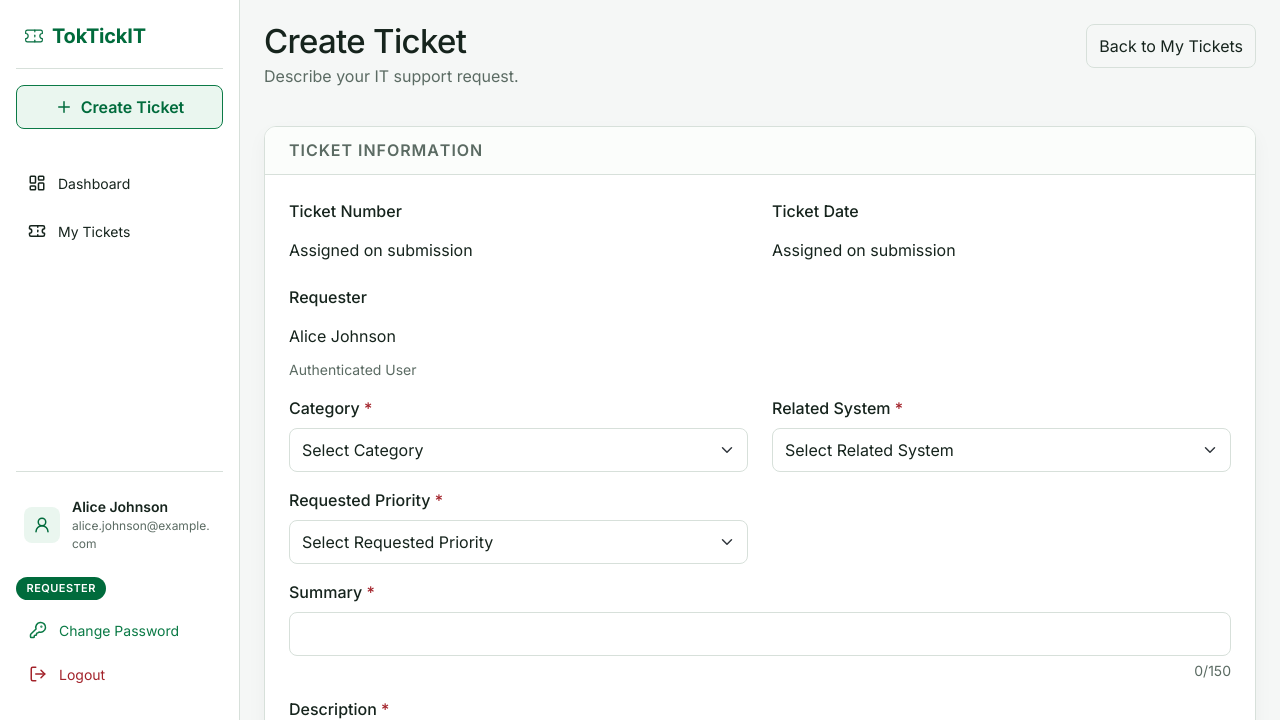
Create Ticket validation › rejects a two-character Summary
The image size is (1280, 720).
Select "Network" in the dropdown labelled "Category *". click: coordinates (518, 450)
box: [289,428,748,472]
Select "VPN" in the dropdown labelled "Related System *". click: coordinates (1002, 450)
box: [772,428,1231,472]
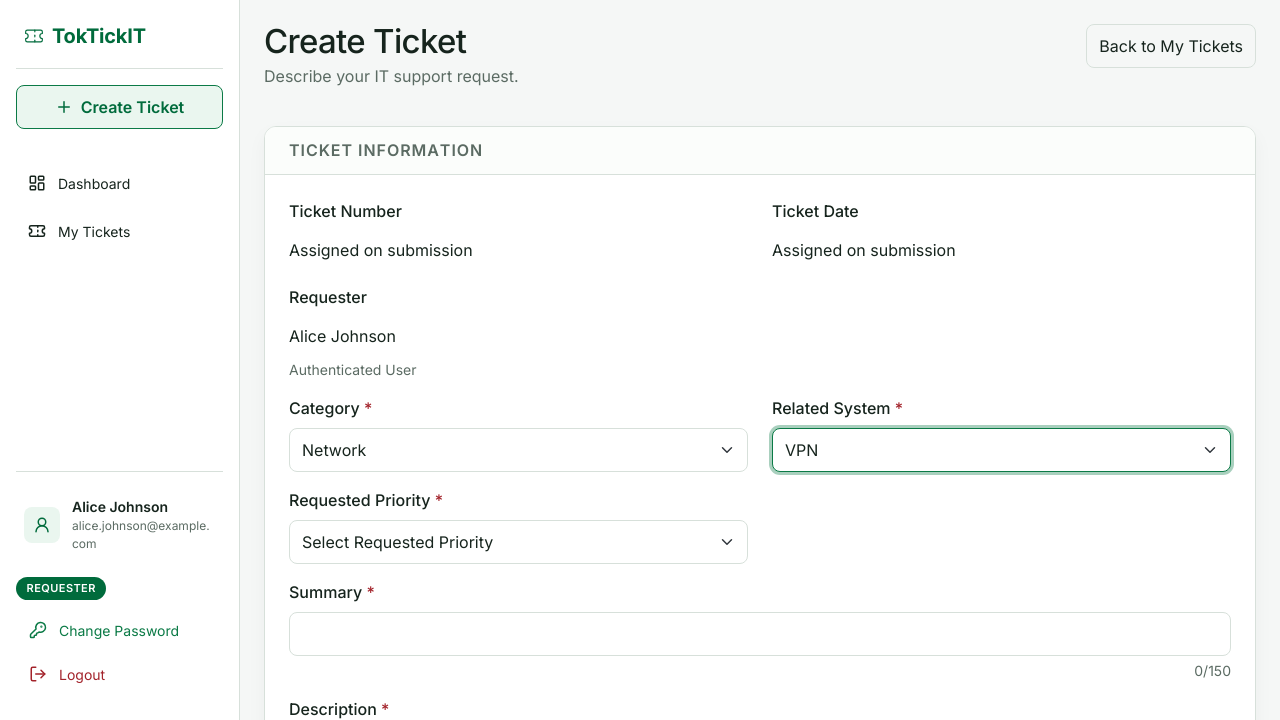
Select "High" in the dropdown labelled "Requested Priority *". click: coordinates (518, 542)
box: [289,520,748,564]
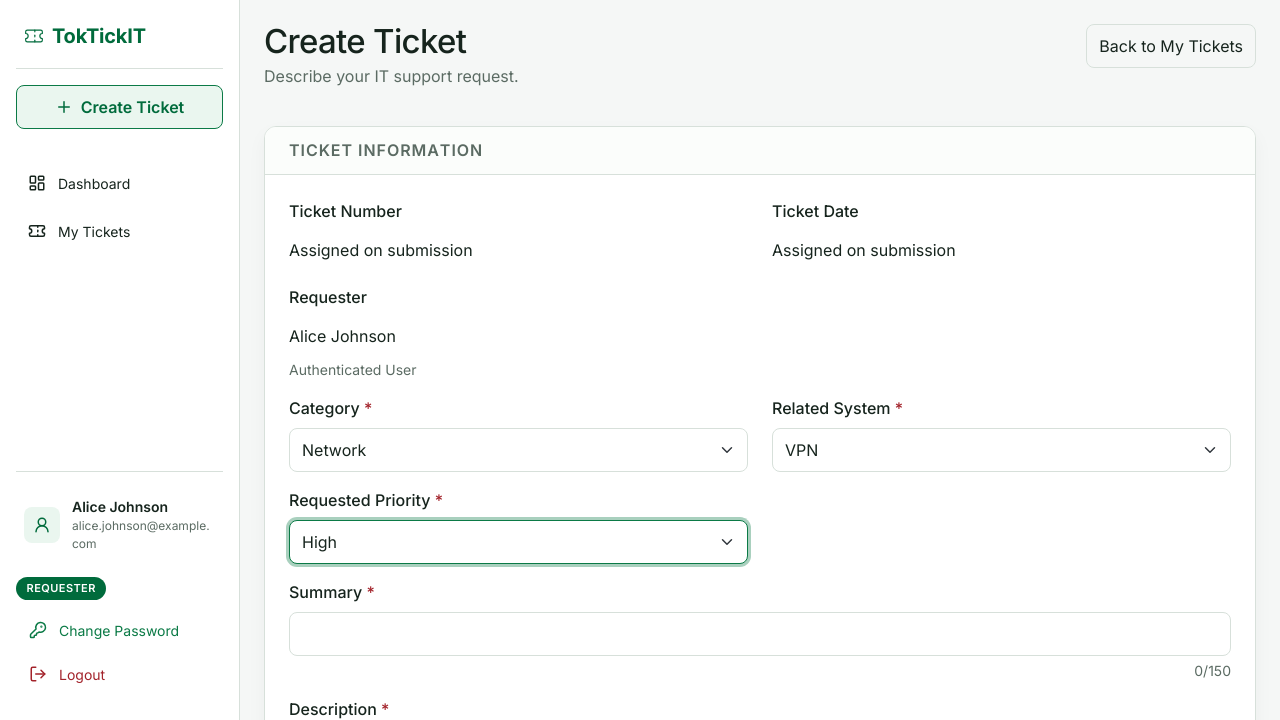
Type "Cannot connect to campus VPN" into the field labelled "Summary *". click: coordinates (760, 634)
box: [289,612,1231,656]
(page scrolled)
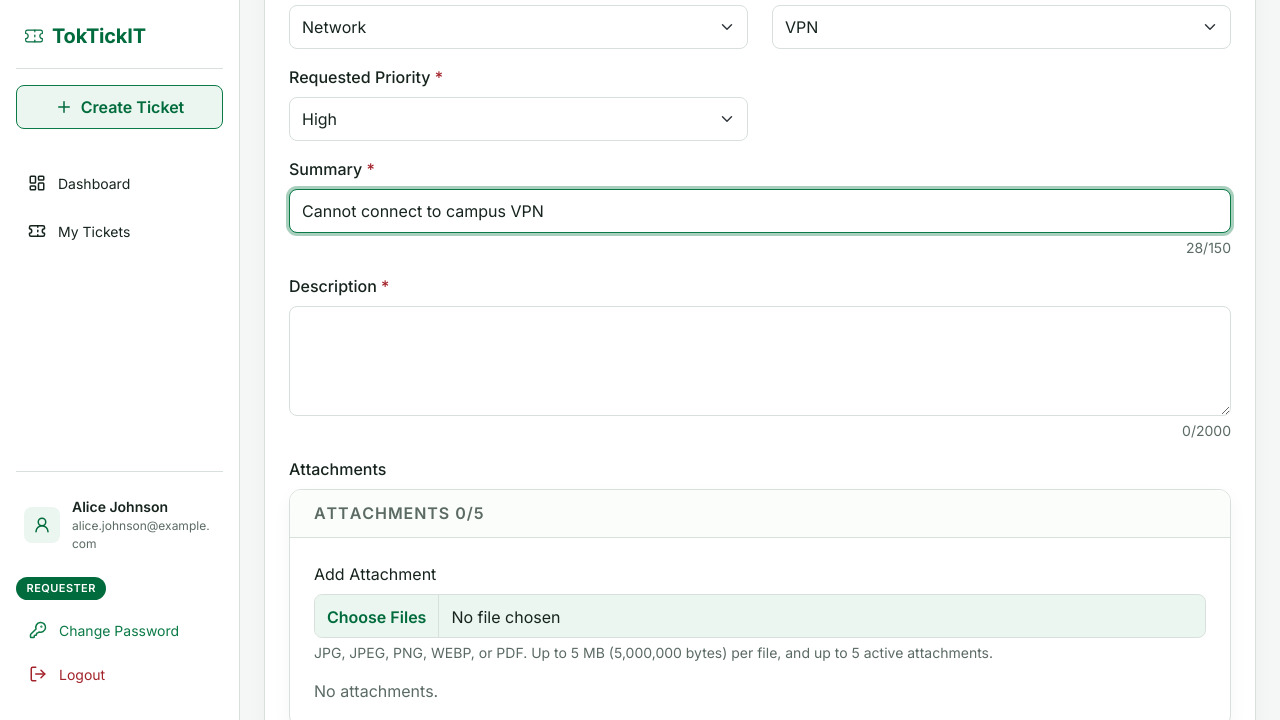
Type "The VPN client fails after entering my credentials." into the text box labelled "Description *". click: coordinates (760, 361)
box: [289,306,1231,416]
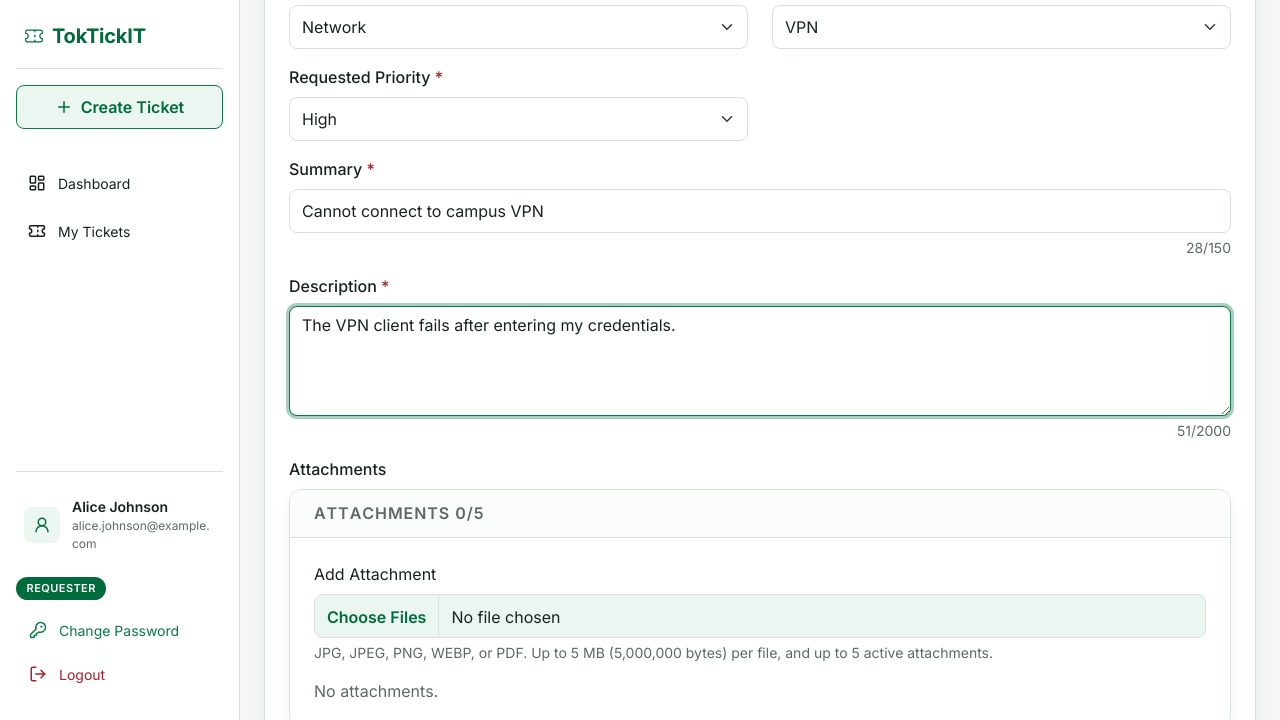
Replace the text in the field labelled "Summary *" with "ab". click: coordinates (760, 211)
box: [289,189,1231,233]
(page scrolled)
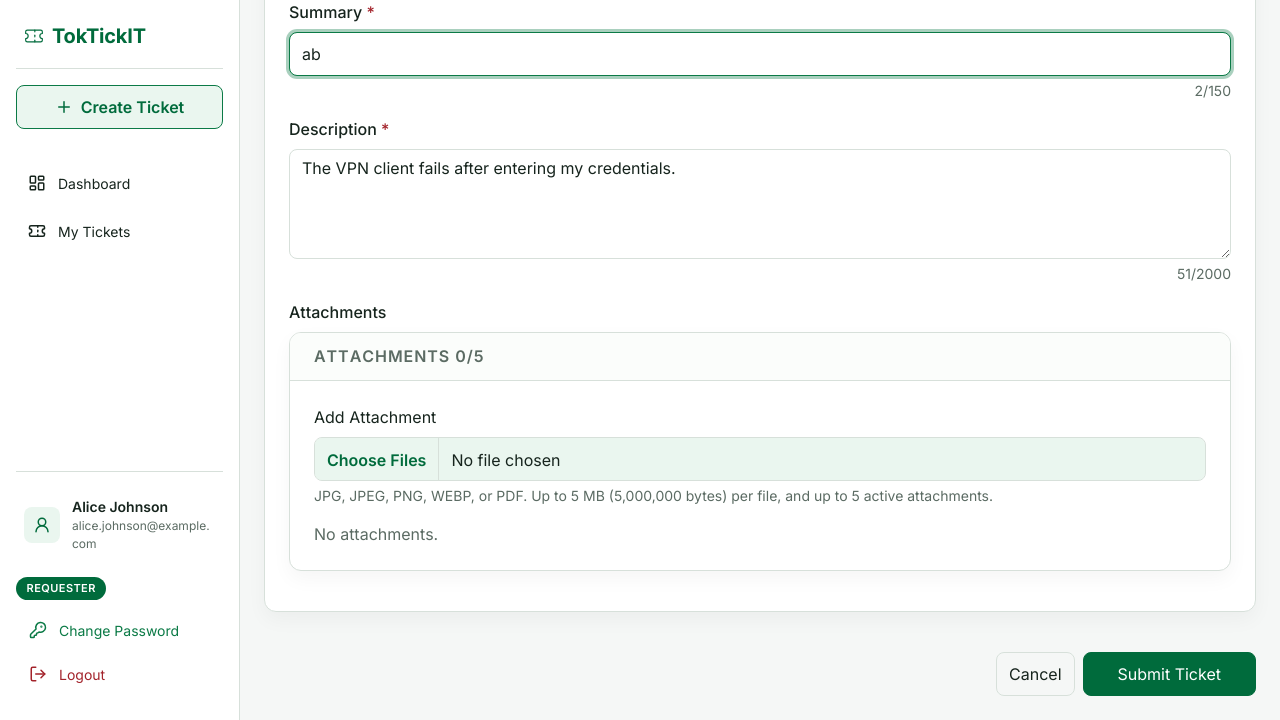
Click the button "Submit Ticket". click: coordinates (1169, 674)
box: [1082,652,1256,696]
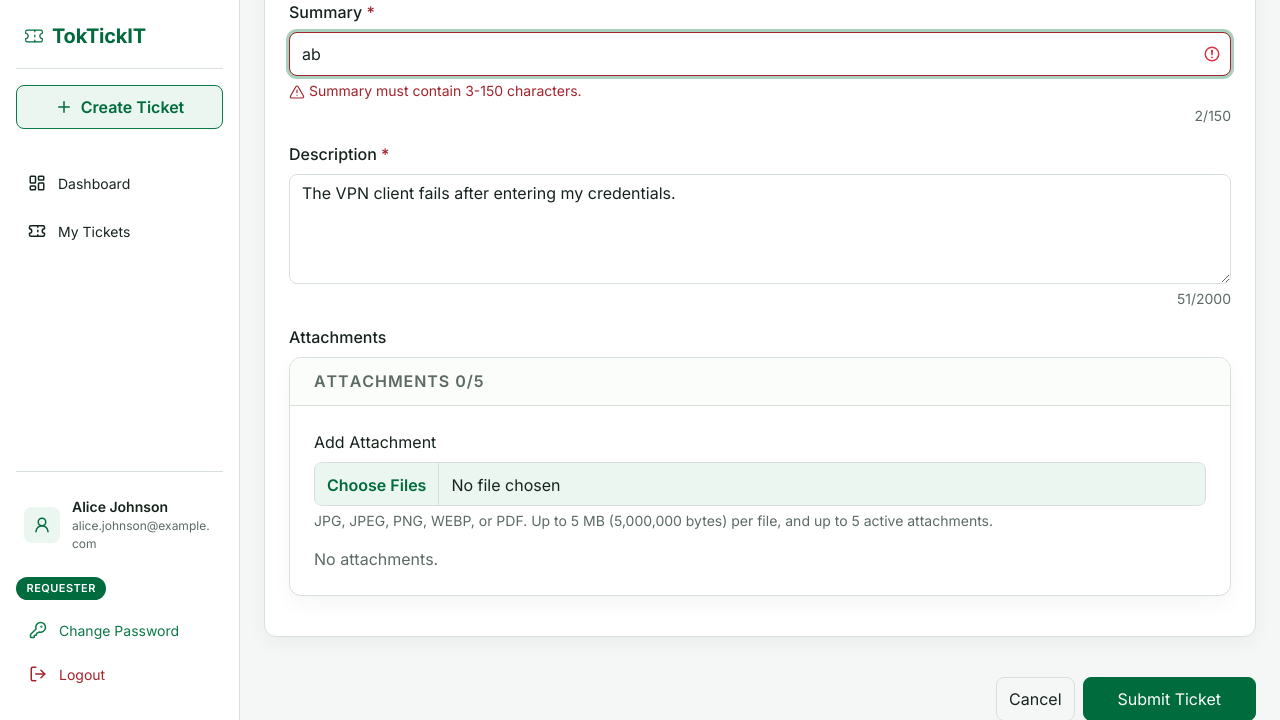
Result: the text "Summary must contain 3-150 characters." is shown at [289,82,582,100]
